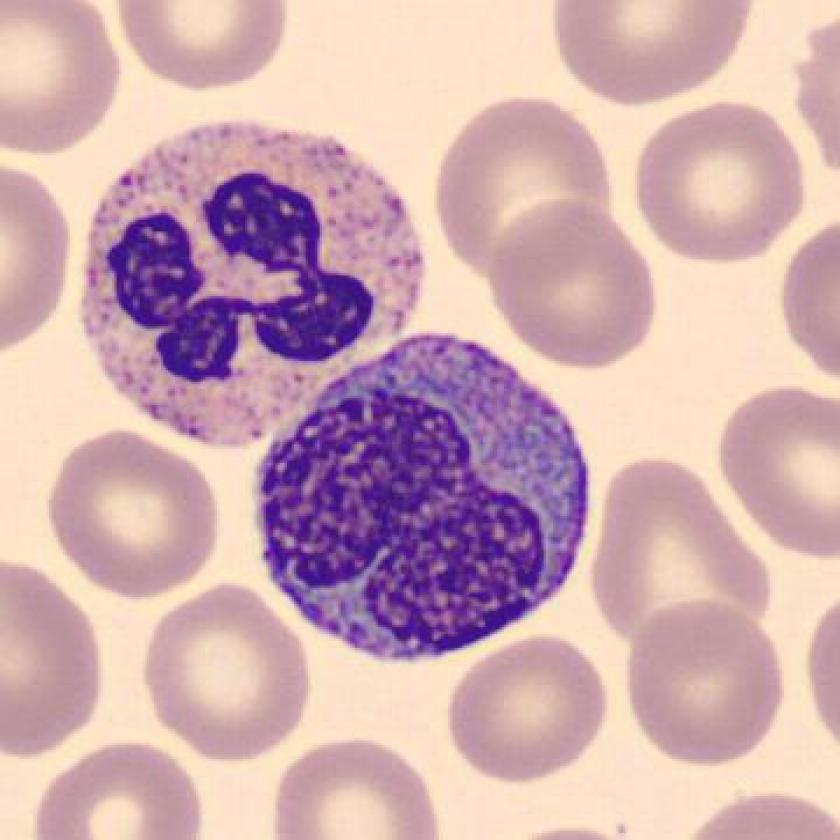monocyte: (239, 318, 608, 686)
